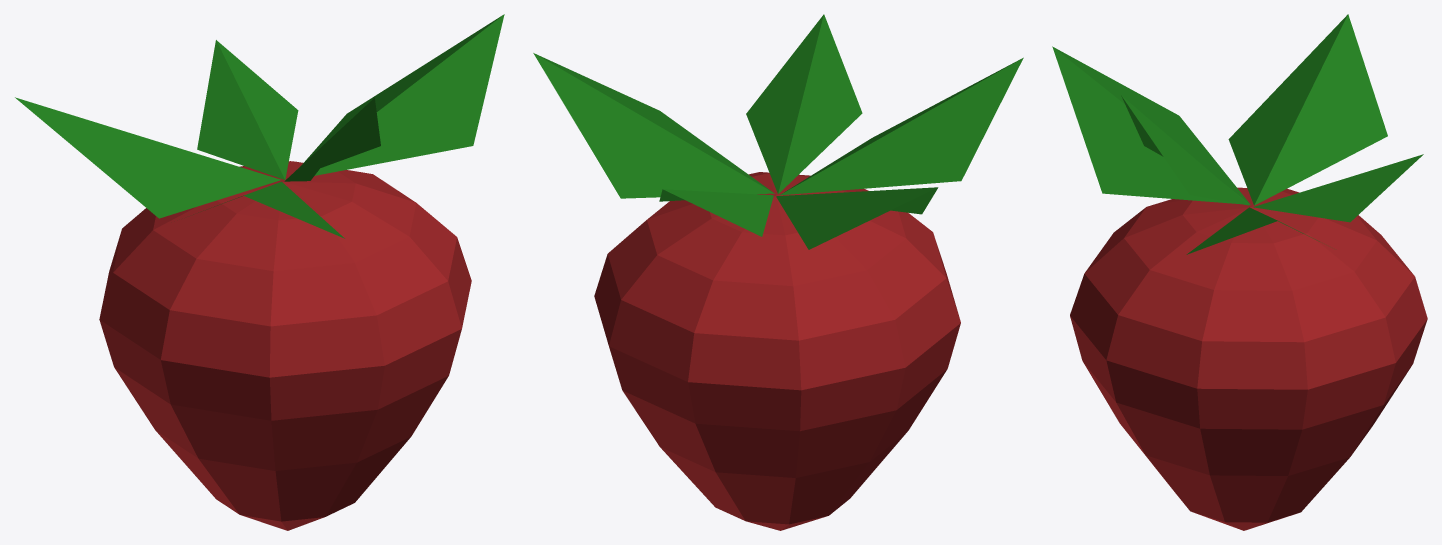
The model's file is Berry.fbx.
3 renders of one model, left to right at view 1: azimuth 30°, elevation 25°; view 2: azimuth 150°, elevation 25°; view 3: azimuth 270°, elevation 25°, orthographic. The views are drawn at different scales.
Parts seen in each view (by area): view 1: Berry; view 2: Berry; view 3: Berry.
Boxes of the visible parts, left/top/right/bottom form: Berry: left=15, top=14, right=504, bottom=530; Berry: left=533, top=14, right=1023, bottom=530; Berry: left=1052, top=14, right=1427, bottom=530.
Bounding box in the file's own units: 13.51 × 13.59 × 10.37.
